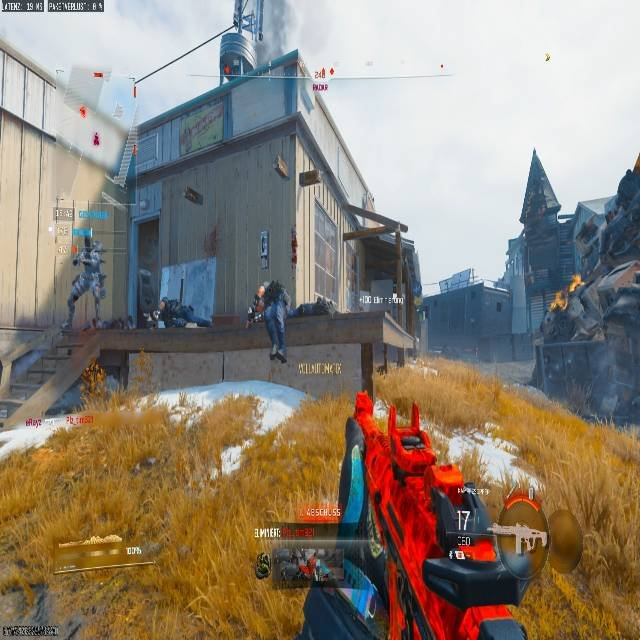head: (79, 232, 93, 248), (85, 238, 98, 253), (269, 280, 280, 291)
player: (63, 235, 105, 329), (257, 279, 290, 363)
